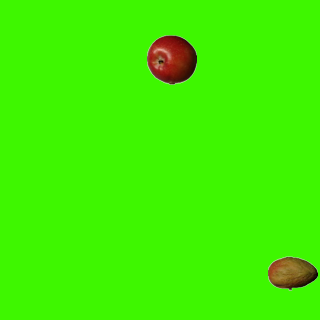Apple Braeburn: (146, 34, 196, 84)
Papaya: (267, 248, 317, 298)
